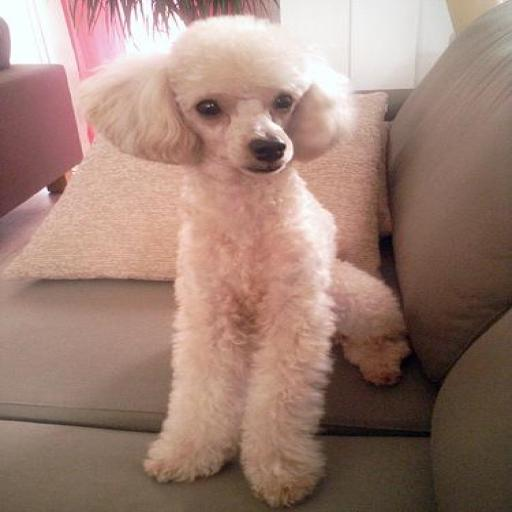dog_face: (91, 19, 343, 170)
